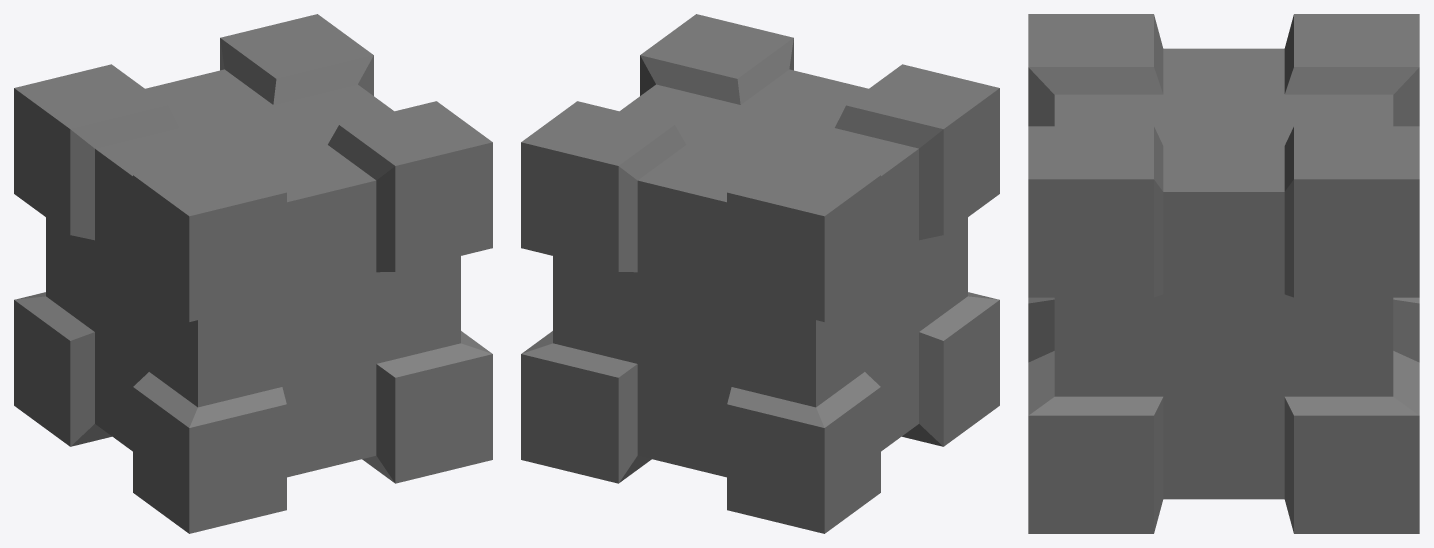
The model's file is q-scifi-mod-prop-crate3.glb.
3 renders of one model, left to right at view 1: azimuth 30°, elevation 25°; view 2: azimuth 150°, elevation 25°; view 3: azimuth 270°, elevation 25°, orthographic. The views are drawn at different scales.
Parts seen in each view (by area): view 1: Prop_Crate3; view 2: Prop_Crate3; view 3: Prop_Crate3.
Boxes of the visible parts, bbox=[...] form: Prop_Crate3: bbox=[14, 14, 492, 533]; Prop_Crate3: bbox=[521, 14, 999, 533]; Prop_Crate3: bbox=[1028, 14, 1419, 533].
Bounding box in the file's own units: 1 × 1 × 1.
1 material, 1 textured.
